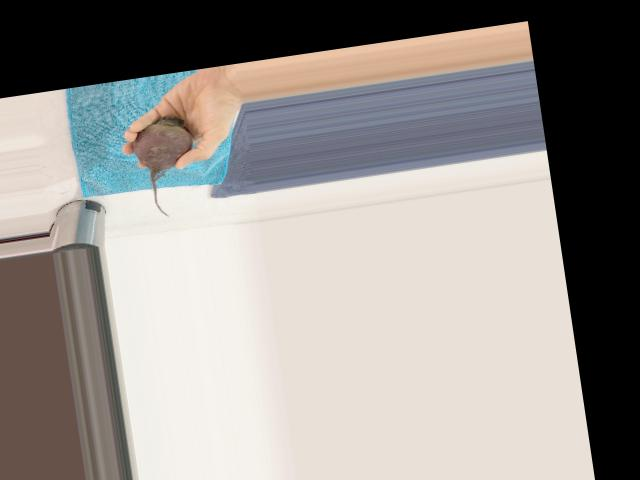beet: (128, 112, 202, 219)
